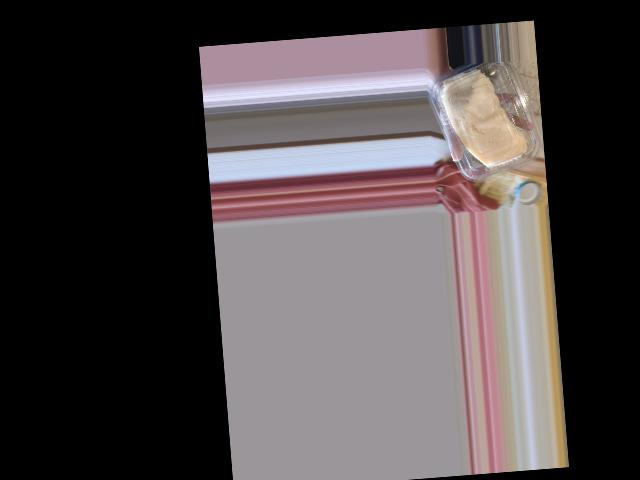cheese: (433, 58, 539, 186)
